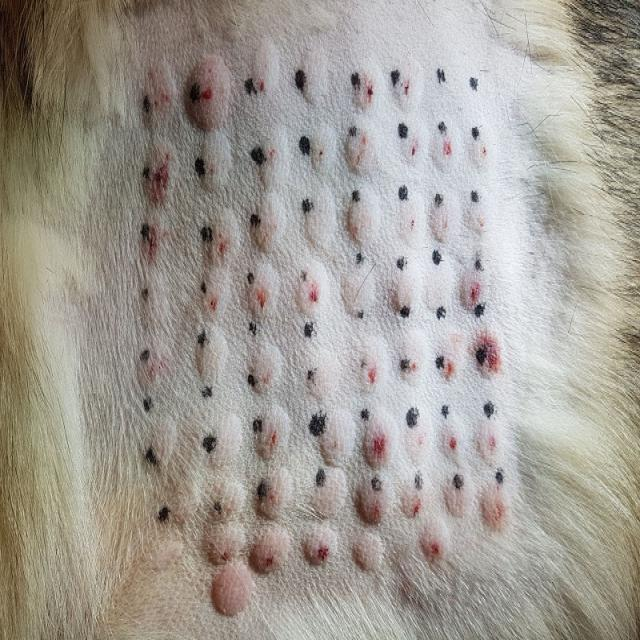allergic dermatitis: (142, 114, 510, 610), (127, 28, 235, 138)
